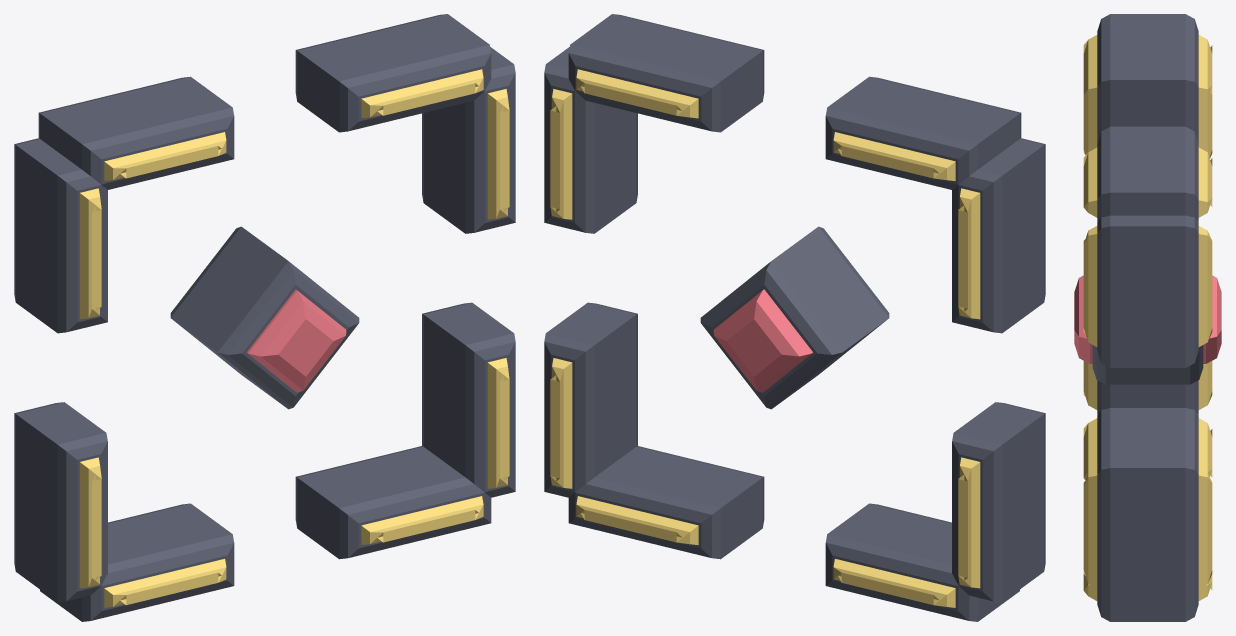
File: game-ui-icon-library-target-lock-brackets-d2088b87__19025.glb
The picture shows the model from 3 angles, left to right: view 1: azimuth 30°, elevation 25°; view 2: azimuth 150°, elevation 25°; view 3: azimuth 270°, elevation 25°; orthographic projection. The views are drawn at different scales.
Visible parts, largest first — view 1: target-lock-brackets; view 2: target-lock-brackets; view 3: target-lock-brackets.
Part boxes in pixels (x1,y1,x2,y2): target-lock-brackets: (14, 14, 515, 621); target-lock-brackets: (544, 14, 1045, 621); target-lock-brackets: (1074, 14, 1221, 621).
Size of the model in its own units: 0.94 by 0.94 by 0.292.
